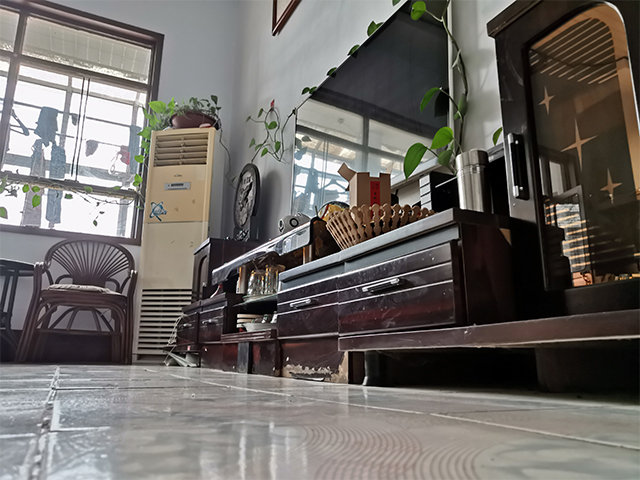cabinet: (190, 211, 521, 393)
stool: (8, 236, 140, 367)
